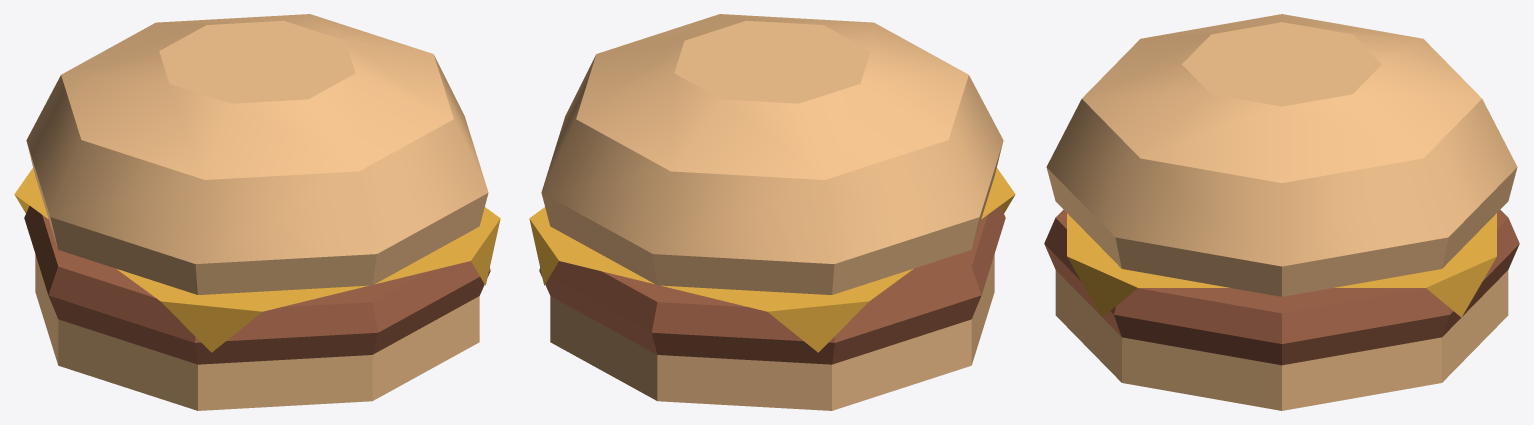
Rendered from burgerCheese.fbx.
The picture shows the model from 3 angles, left to right: view 1: azimuth 30°, elevation 25°; view 2: azimuth 150°, elevation 25°; view 3: azimuth 270°, elevation 25°; orthographic projection.
Parts seen in each view (by area): view 1: bunTop, patty, bunBottom, cheese; view 2: bunTop, patty, bunBottom, cheese; view 3: bunTop, patty, bunBottom, cheese.
Boxes of the visible parts, x1,y1,x2,y2 form: bunTop: (26, 14, 488, 294); patty: (24, 206, 490, 364); bunBottom: (35, 254, 479, 410); cheese: (14, 168, 500, 352); bunTop: (541, 14, 1003, 294); patty: (539, 206, 1005, 364); bunBottom: (550, 254, 994, 410); cheese: (529, 168, 1015, 352); bunTop: (1046, 14, 1517, 296); patty: (1044, 209, 1519, 365); bunBottom: (1055, 270, 1508, 410); cheese: (1067, 213, 1496, 317).
Bounding box in the file's own units: 3.78 × 2.2 × 3.78.
